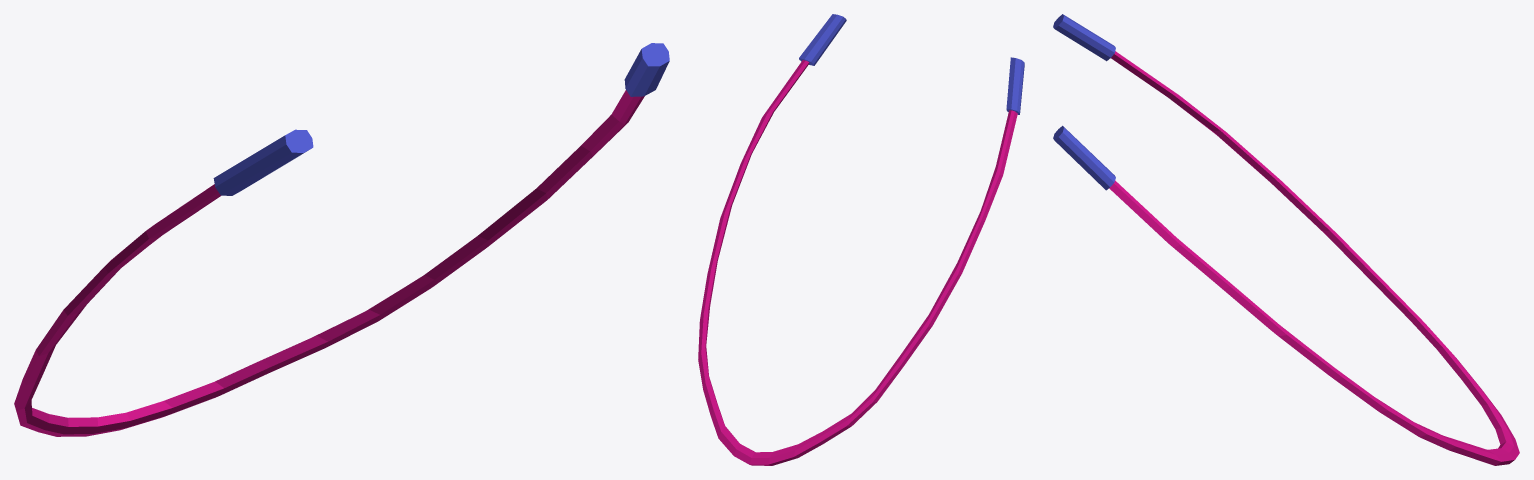
File: Rope - Animations.fbx
3 renders of one model, left to right at view 1: azimuth 30°, elevation 25°; view 2: azimuth 150°, elevation 25°; view 3: azimuth 270°, elevation 25°, orthographic. The views are drawn at different scales.
Visible parts, largest first — view 1: Rope_Mesh; view 2: Rope_Mesh; view 3: Rope_Mesh.
Part boxes in pixels (x1,y1,x2,y2): Rope_Mesh: (14,43,669,436); Rope_Mesh: (698,14,1024,465); Rope_Mesh: (1053,14,1519,465).
Size of the model in its own units: 262 by 310 by 341.
